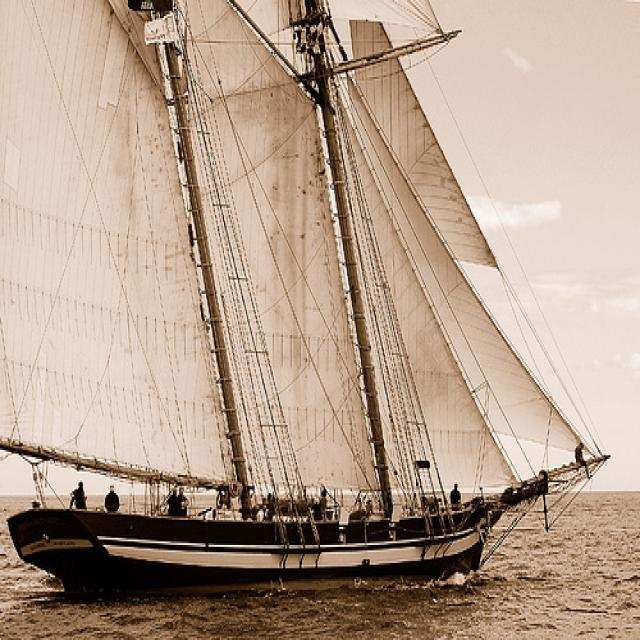Ship: (1, 4, 603, 593)
